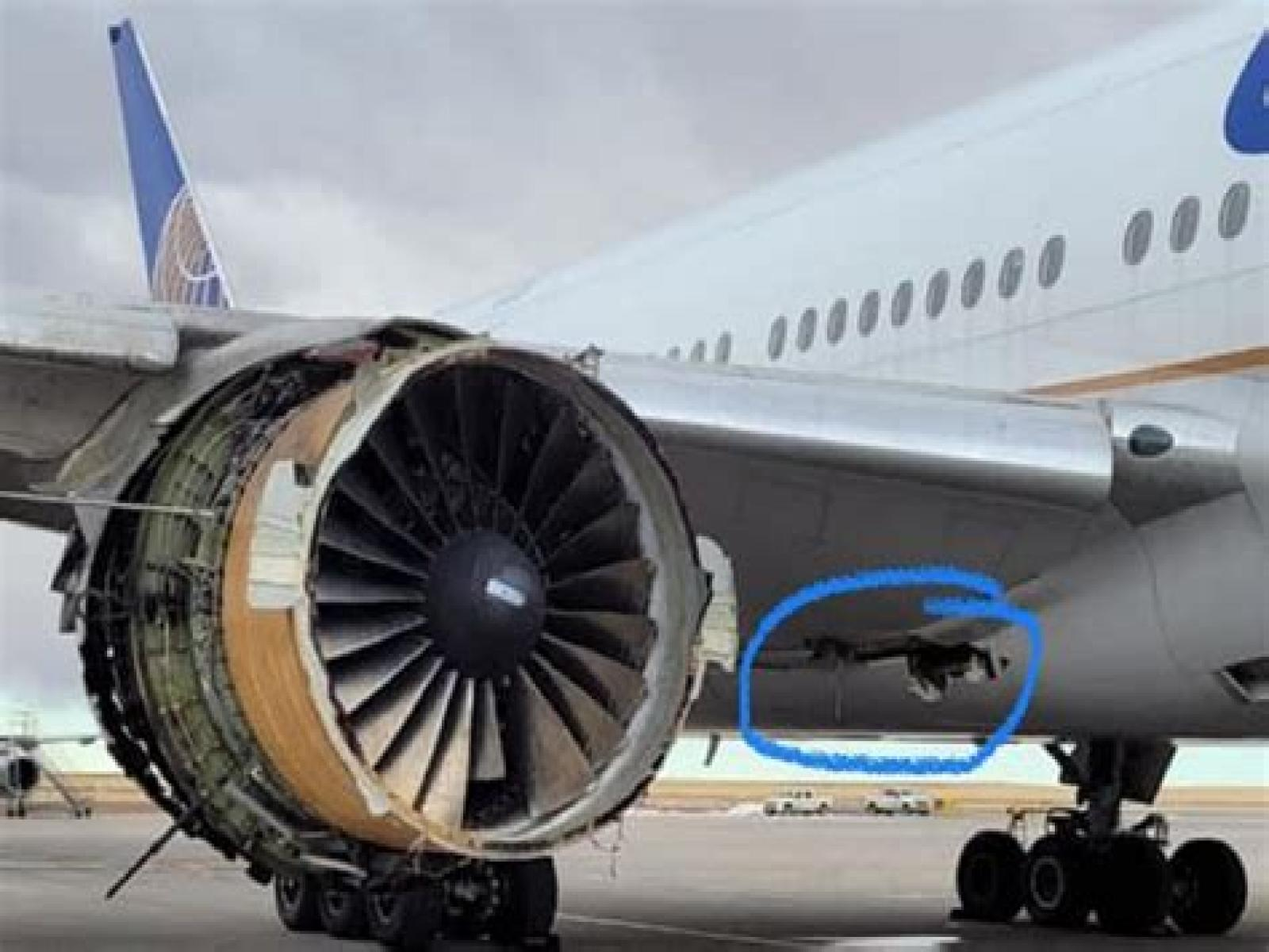Engine_damage: (21, 322, 734, 943)
Fuselage_damage: (814, 642, 1007, 696)
